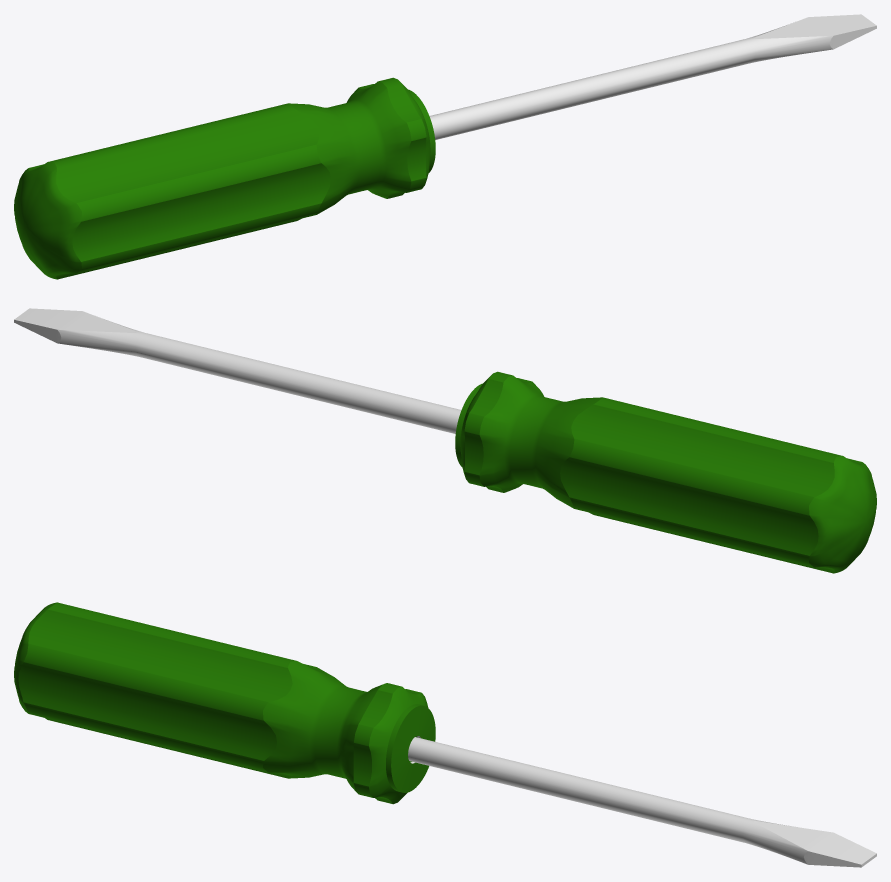
The model's file is obeng.fbx.
3 views of the same model, one above another, from view 1: azimuth 30°, elevation 25°; view 2: azimuth 150°, elevation 25°; view 3: azimuth 330°, elevation 25° (orthographic).
Parts seen in each view (by area): view 1: Отвертка; view 2: Отвертка; view 3: Отвертка.
Part boxes in pixels (x1=…): Отвертка: x1=14, y1=14, x2=876, y2=279; Отвертка: x1=14, y1=308, x2=876, y2=573; Отвертка: x1=14, y1=602, x2=876, y2=867.
Bounding box in the file's own units: 47.65 × 6.18 × 5.63.
